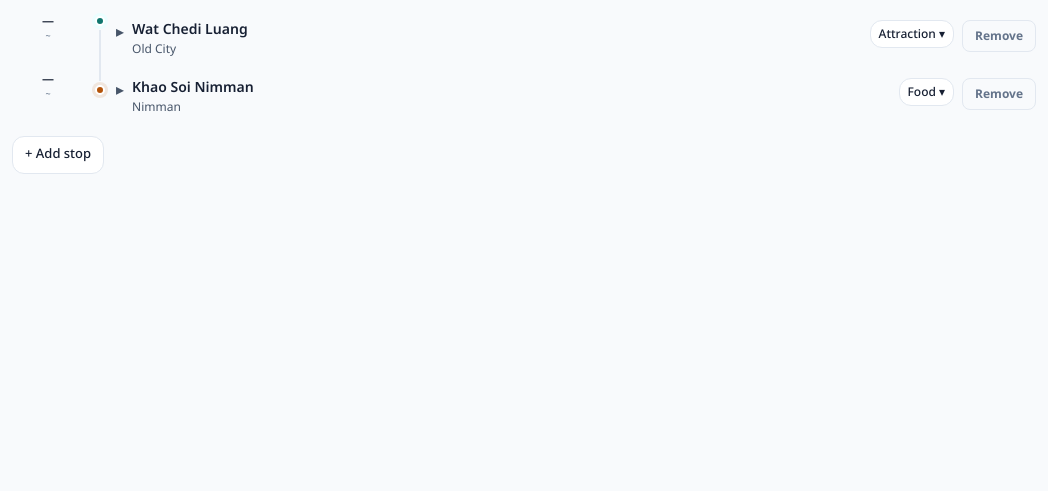
Test: DayTimeline expand/collapse stop cards › lists the day's stops as expand/collapse cards — collapsed title/place/type; expanded typeFieldDefs setup
The image size is (1048, 491).
Expected: the text "Wat Chedi Luang" is shown, [132,19,248,40]
Expected: the text "Khao Soi Nimman" is shown, [132,77,254,98]
Click the heading "▸ Wat Chedi Luang Old City Attraction ▾ Remove": x=190, y=30 [116,12,1036,66]
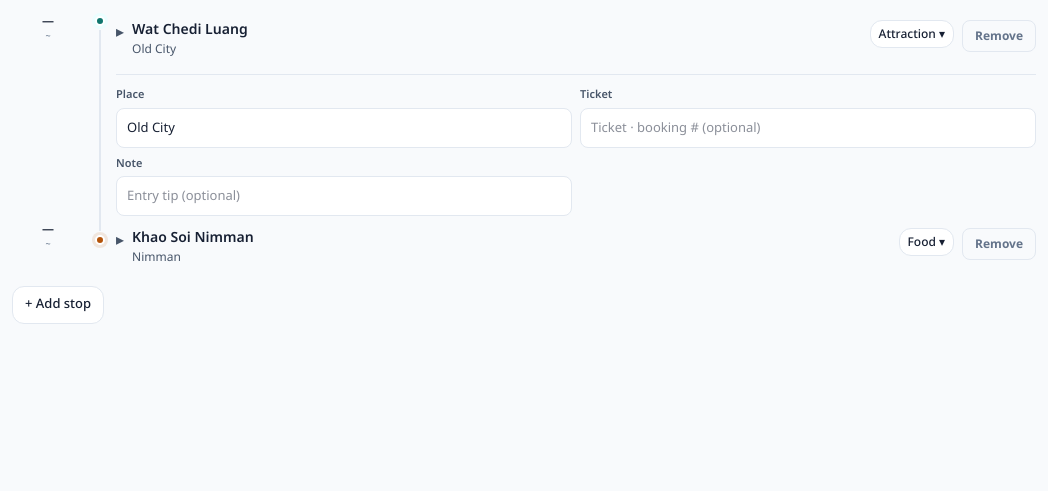
Expected: the field labelled "Place" is shown, [116,108,572,148]
Expected: the field labelled "Ticket" is shown, [580,108,1036,148]
Click the heading "▸ Khao Soi Nimman Nimman Food ▾ Remove": x=193, y=238 [116,220,1036,274]
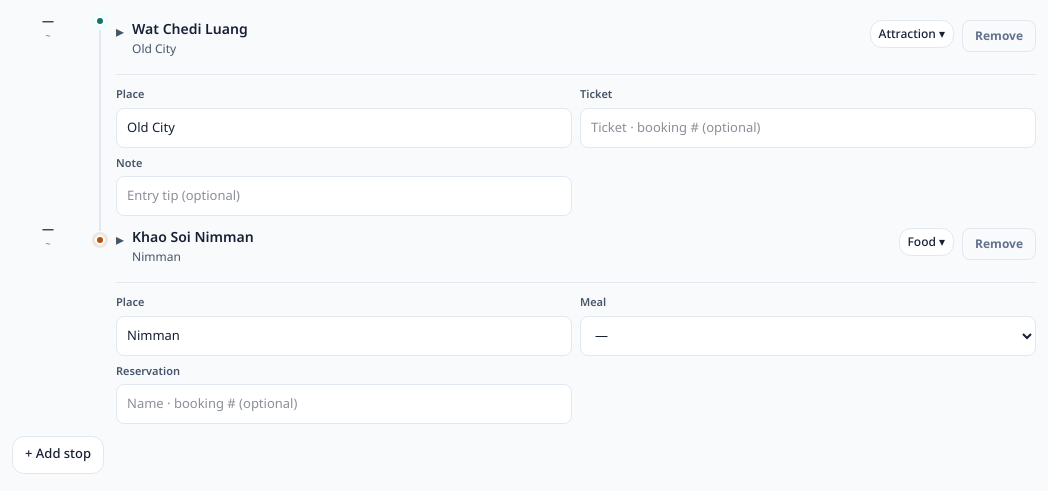
Expected: the field labelled "Place" below "Meal" is shown, [116,316,572,356]
Expected: the dropdown labelled "Meal" is shown, [580,316,1036,356]
